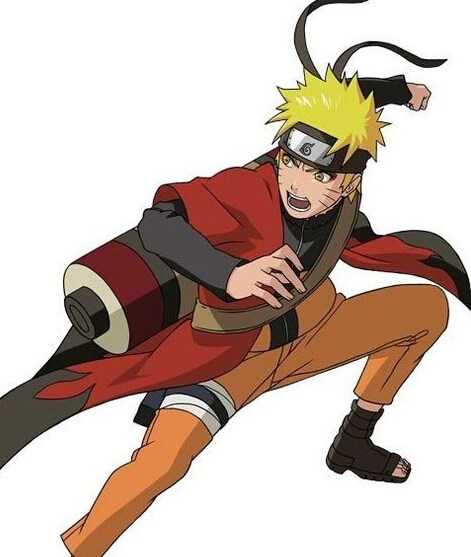naruto: (275, 118, 376, 219)
